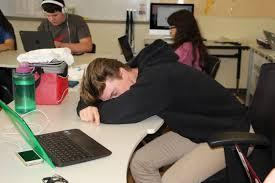sleep: (75, 57, 209, 126)
